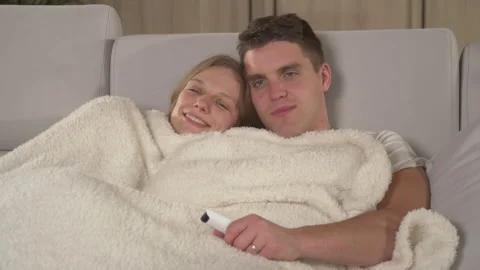blanket: (0, 93, 461, 270)
